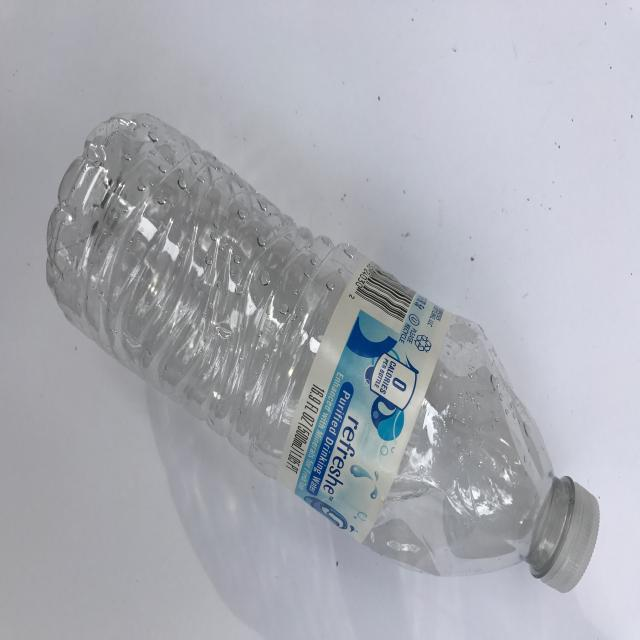plastic: (39, 110, 598, 600)
